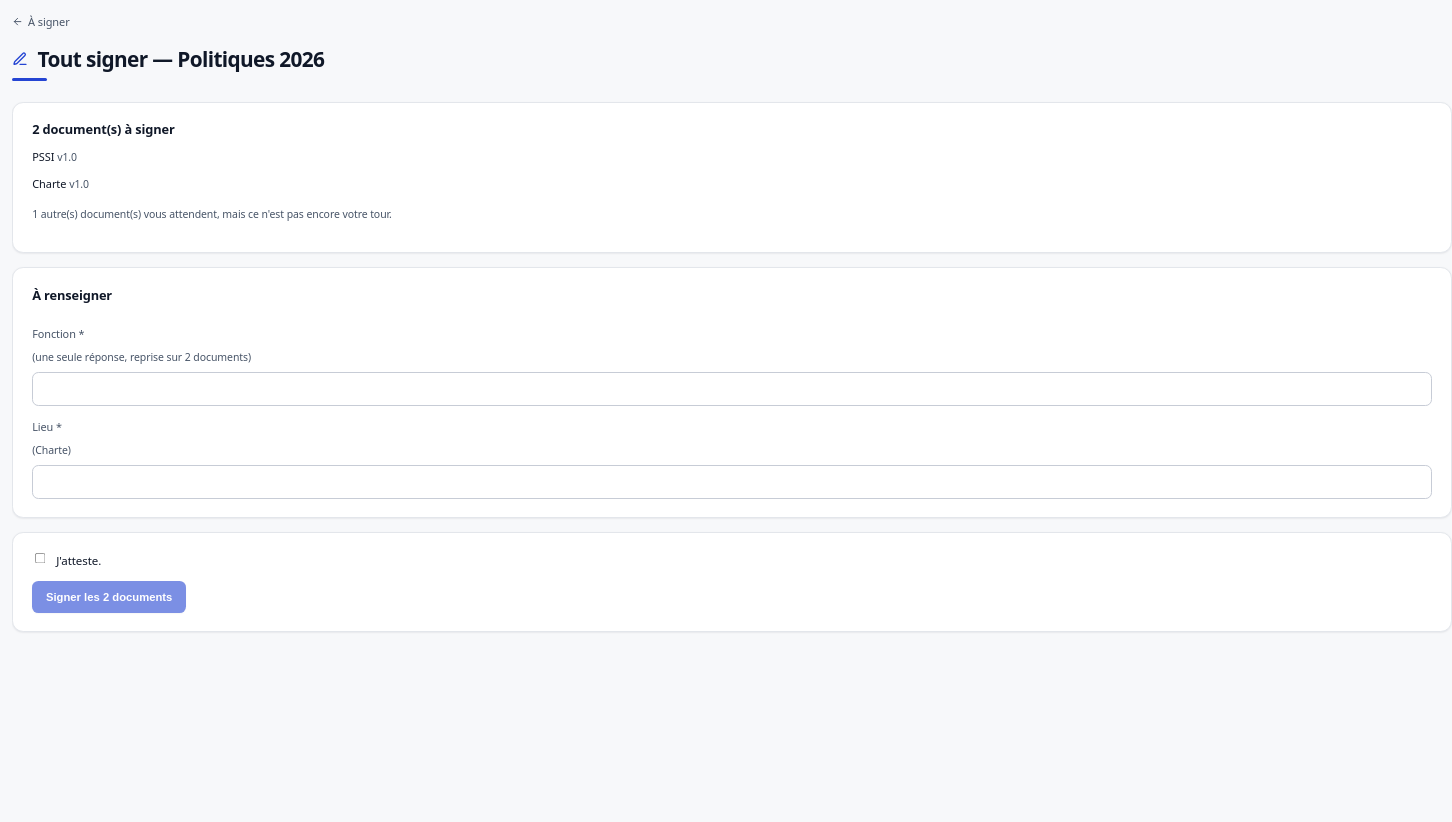
Test case: SignAllPage › asks a shared answer once, then signs every document with one consent
Expected: the element with test id "sign-all-documents" shows "2 document(s) à signer", left=12, top=102, right=1451, bottom=253
Expected: the element with test id "sign-all-documents" shows "1 autre(s) document(s)", left=12, top=102, right=1451, bottom=253
Click the checkbox at (41, 559), box left=35, top=553, right=46, bottom=564
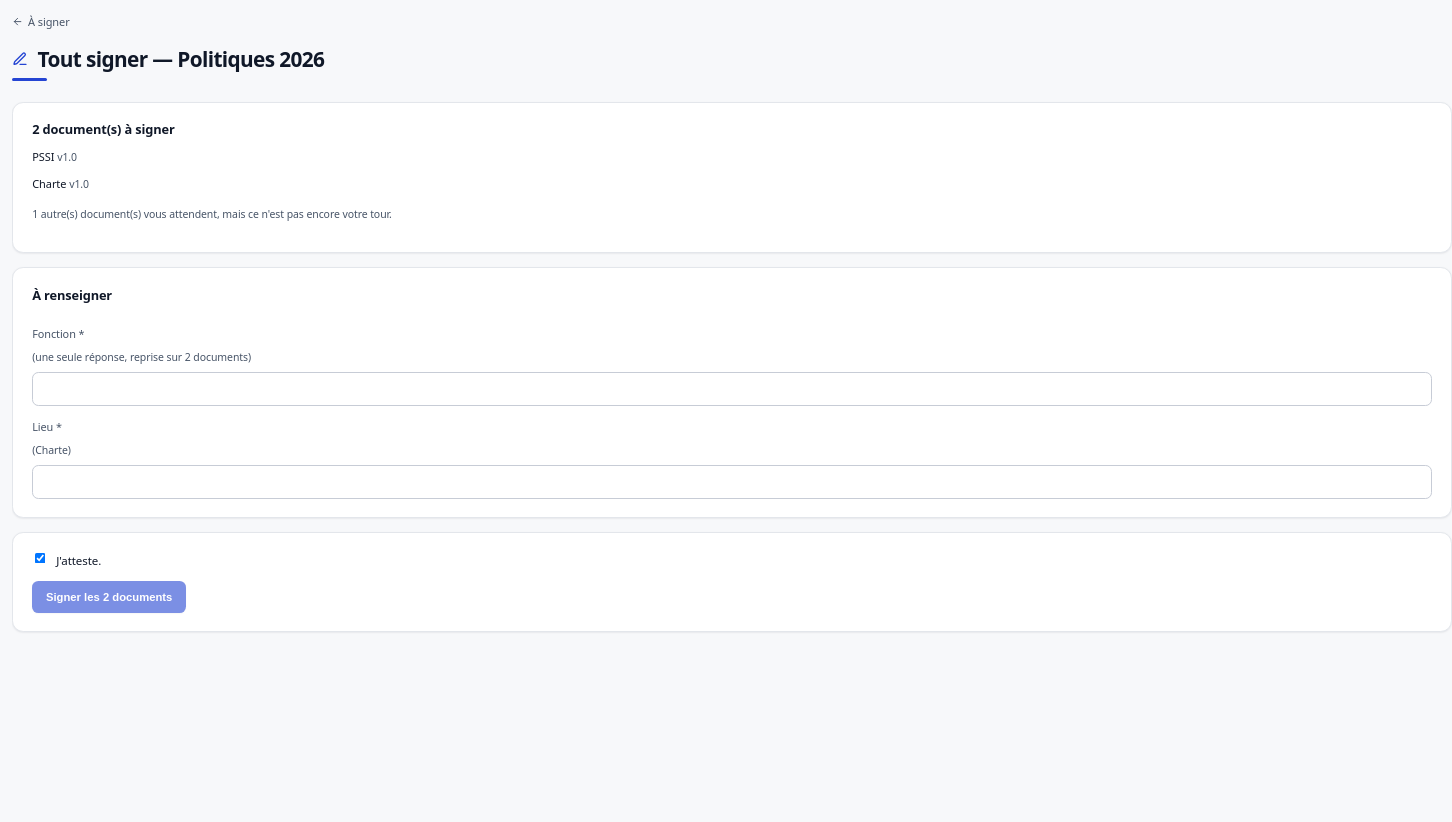
Expected: the button "Signer les 2 documents" is disabled, left=32, top=581, right=186, bottom=613
Type "RSSI" into the field labelled "Fonction * (une seule réponse, reprise sur 2 documents)" at (732, 389), box left=32, top=372, right=1432, bottom=406
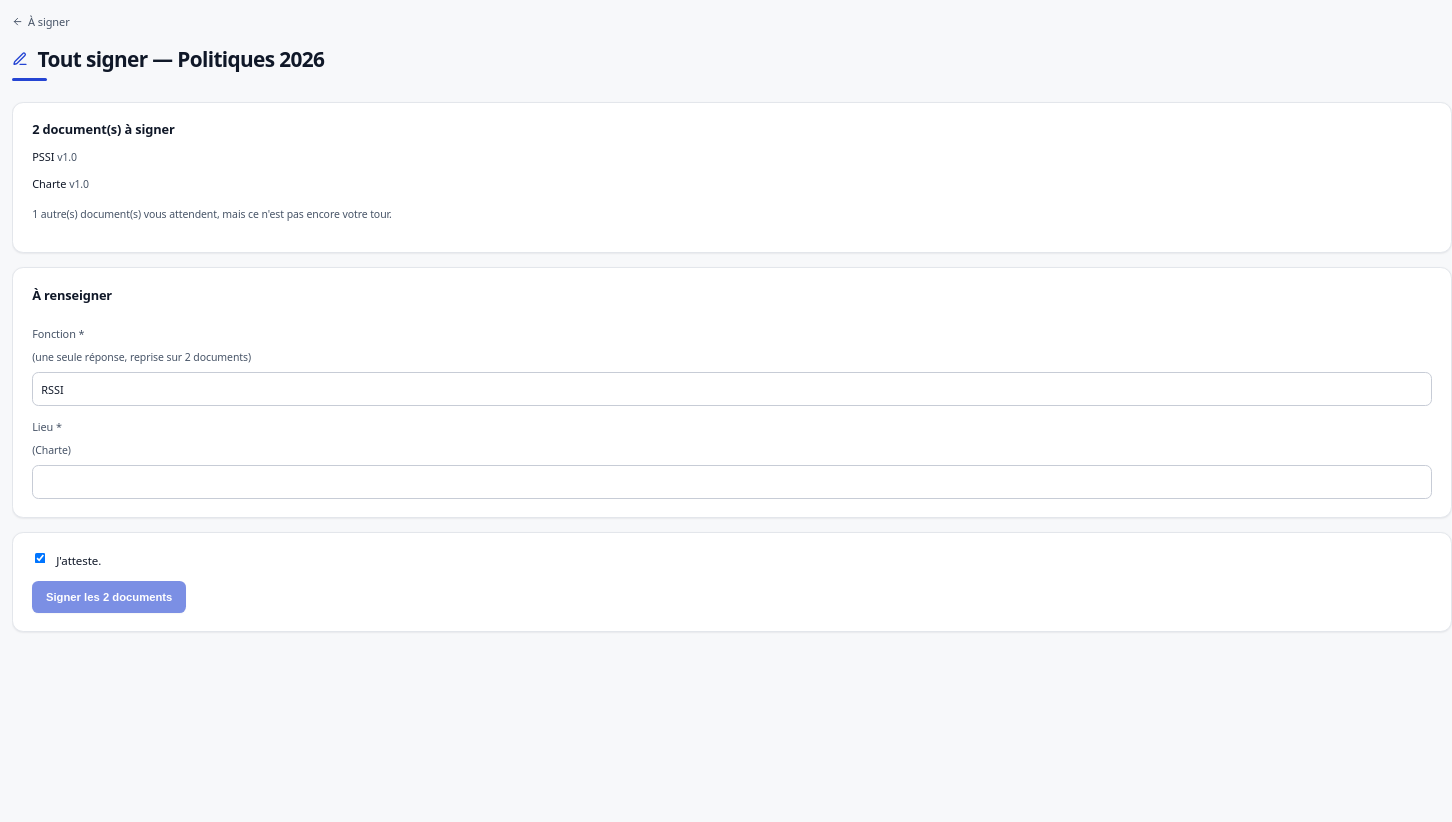
Type "Paris" into the field labelled "Lieu * (Charte)" at (732, 482), box left=32, top=466, right=1432, bottom=500
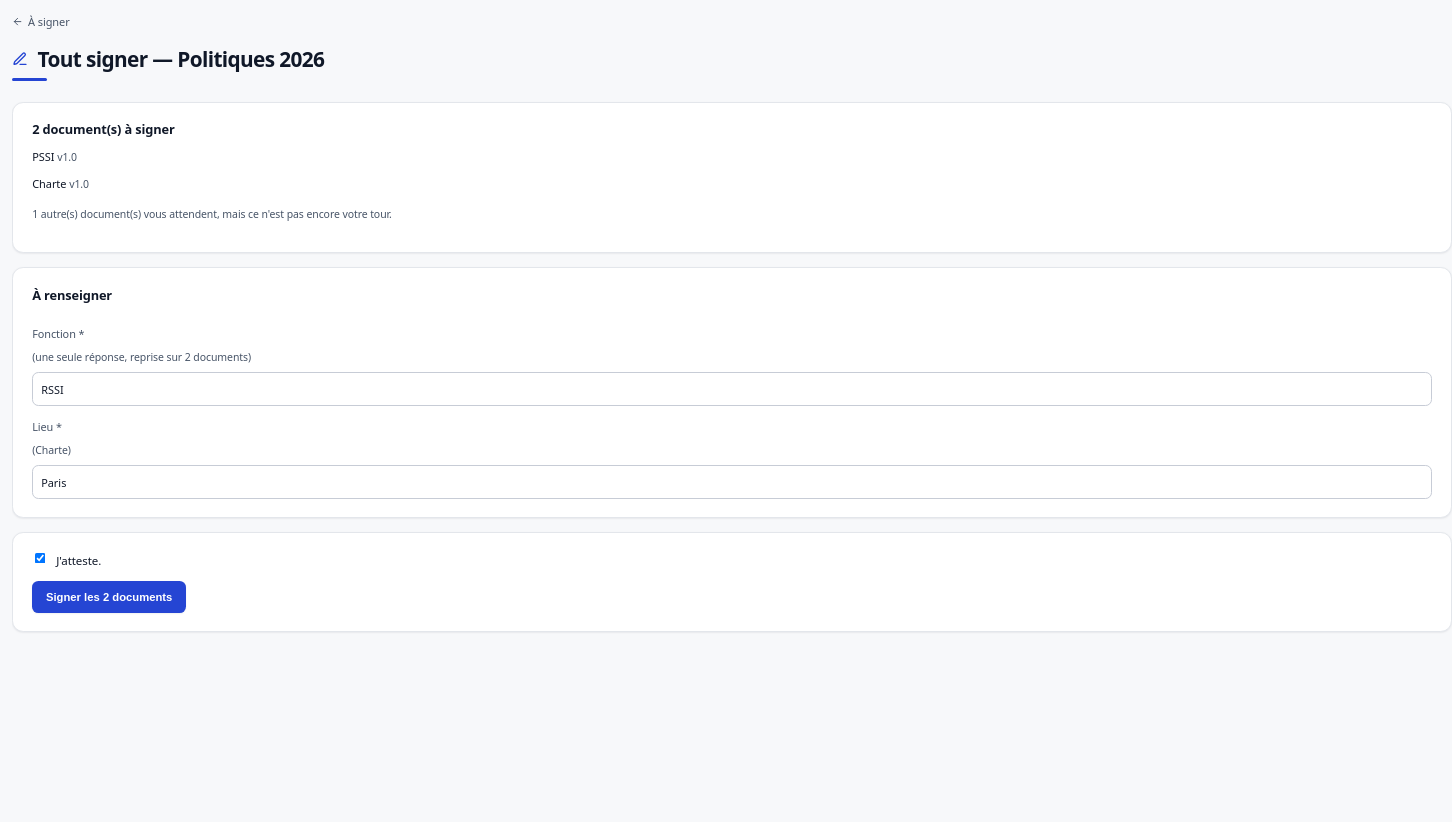
Expected: the button "Signer les 2 documents" is enabled
Click the button "Signer les 2 documents" at (109, 597), box left=32, top=581, right=186, bottom=613
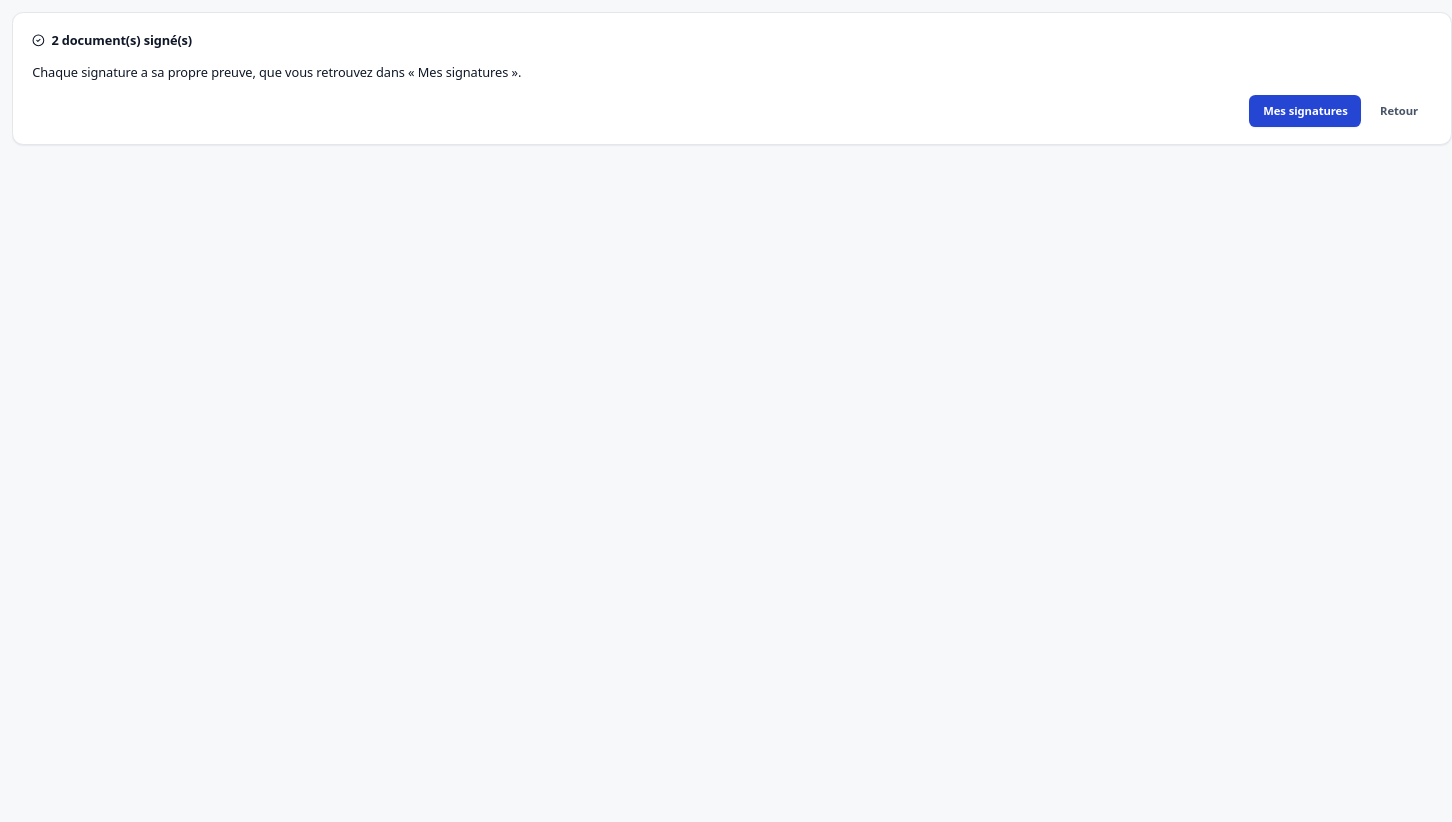
Expected: the element with test id "sign-all-done" shows "2 document(s) signé(s)", left=12, top=12, right=1451, bottom=145
